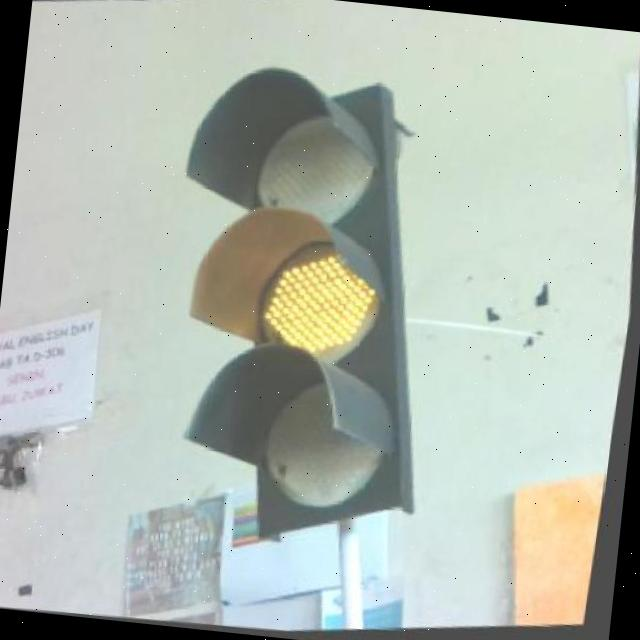yellow_light: (120, 38, 481, 562)
